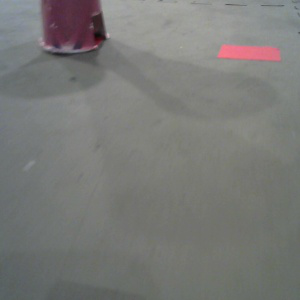middle: (37, 1, 111, 56)
